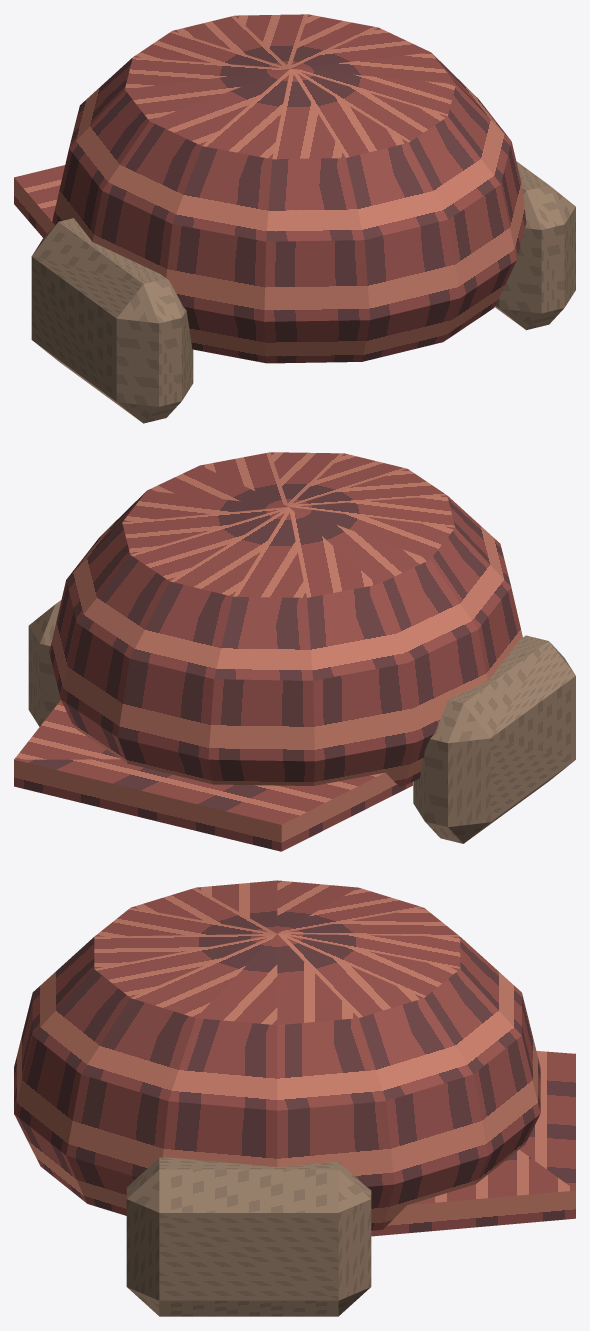
The model's file is hat_hunting.glb.
3 renders of one model, top to bottom at view 1: azimuth 30°, elevation 25°; view 2: azimuth 150°, elevation 25°; view 3: azimuth 270°, elevation 25°, orthographic. The views are drawn at different scales.
Parts seen in each view (by area): view 1: block_rounded crown, block_ear flap (×2), block_peak; view 2: block_rounded crown, block_ear flap (×2), block_peak; view 3: block_rounded crown, block_ear flap, block_peak.
Part boxes in pixels (x1,y1,x2,y2): block_rounded crown: (52,14,526,363); block_ear flap (×2): (31,161,575,423); block_peak: (14,165,64,237); block_rounded crown: (49,452,522,786); block_ear flap (×2): (28,600,575,843); block_peak: (14,700,412,851); block_rounded crown: (14,880,540,1230); block_ear flap: (126,1157,371,1316); block_peak: (371,1051,575,1236).
Bounding box in the file's own units: 0.2872 × 0.158 × 0.289.
1 material, 1 textured.
